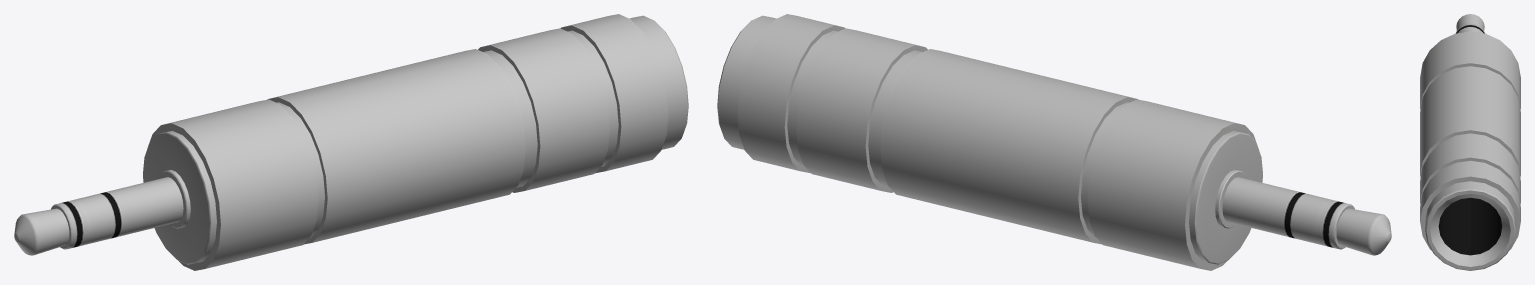
Rendered from objv-trs-jack-adapter.glb.
3 renders of one model, left to right at view 1: azimuth 30°, elevation 25°; view 2: azimuth 150°, elevation 25°; view 3: azimuth 270°, elevation 25°, orthographic. The views are drawn at different scales.
Parts seen in each view (by area): view 1: cyl_low, pin_low; view 2: cyl_low, pin_low; view 3: cyl_low, pin_low.
Part boxes in pixels (<box>): cyl_low: <box>143,14,688,270</box>; pin_low: <box>14,177,183,255</box>; cyl_low: <box>717,14,1262,270</box>; pin_low: <box>1222,177,1391,255</box>; cyl_low: <box>1420,31,1520,270</box>; pin_low: <box>1455,14,1485,33</box>.
Size of the model in its own units: 0.3397 by 0.0697 by 0.0697.
1 material, 1 textured.
